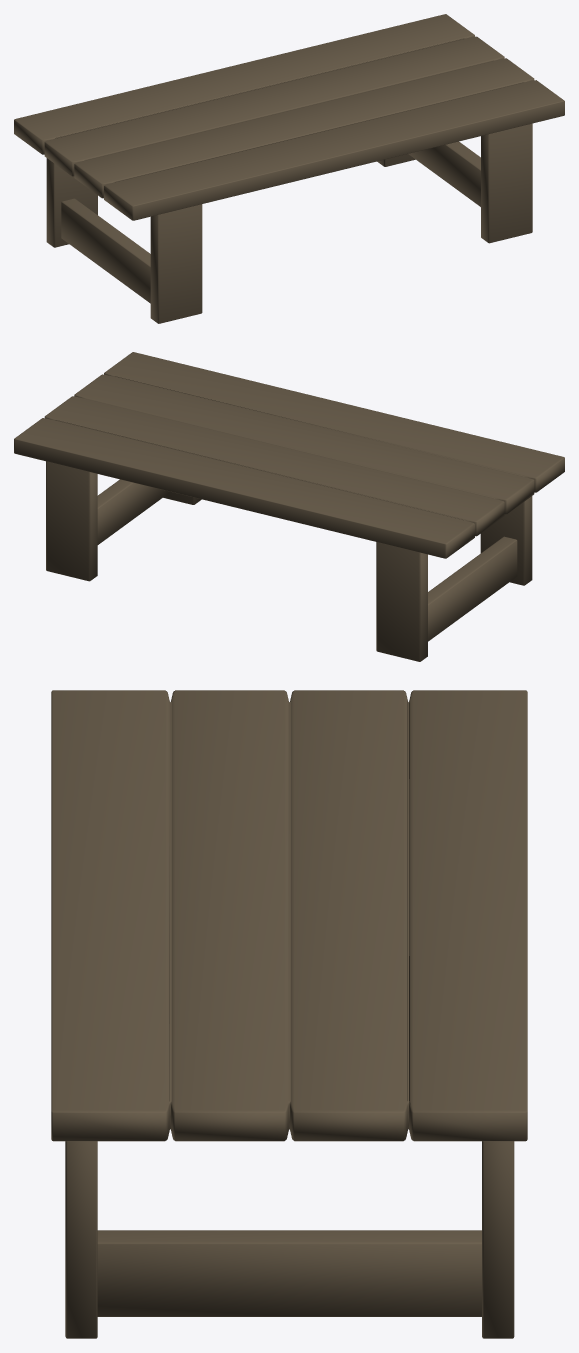
Rendered from table.fbx.
The picture shows the model from 3 angles, top to bottom: view 1: azimuth 30°, elevation 25°; view 2: azimuth 150°, elevation 25°; view 3: azimuth 270°, elevation 25°; orthographic projection. The views are drawn at different scales.
Parts seen in each view (by area): view 1: table; view 2: table; view 3: table.
Part boxes in pixels (x1,y1,x2,y2): table: (14, 14, 564, 323); table: (14, 352, 564, 661); table: (51, 690, 527, 1338).
Bounding box in the file's own units: 600 × 169 × 286.
